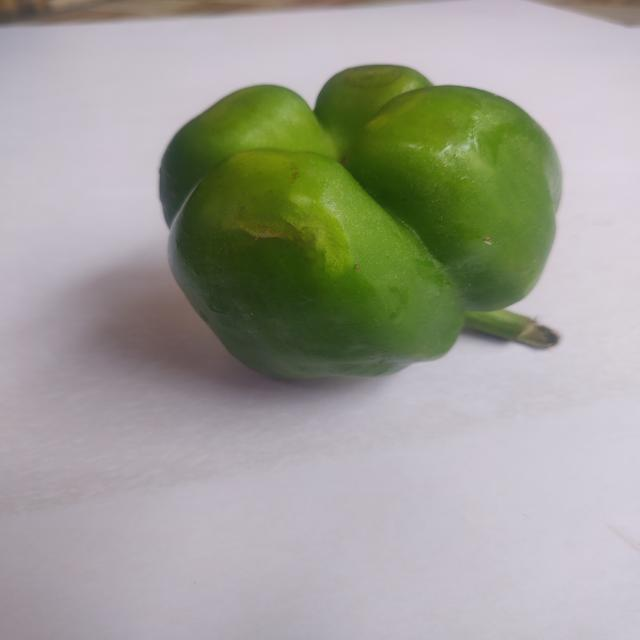Capsicum: (149, 48, 586, 402)
